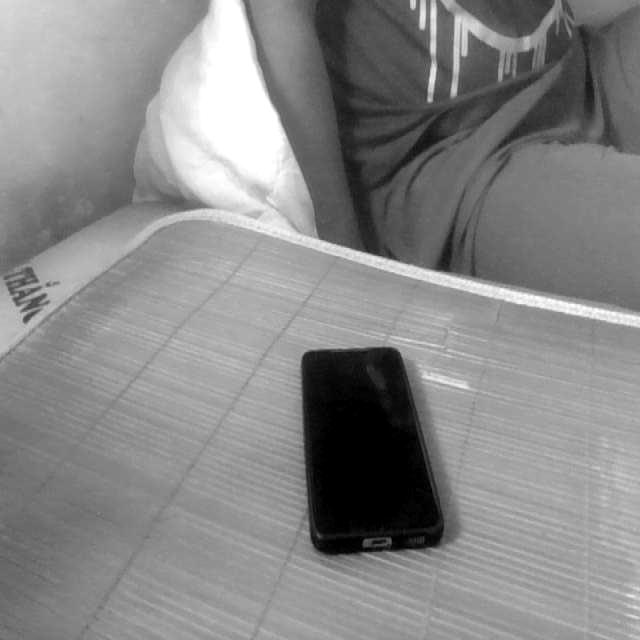phone: (288, 320, 461, 573)
